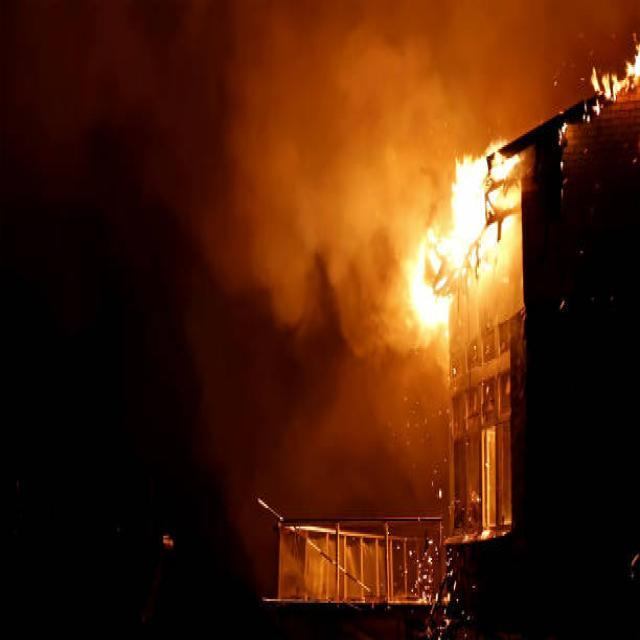Fire: (405, 132, 520, 344), (584, 37, 640, 120)
Smoke: (186, 0, 492, 367)
